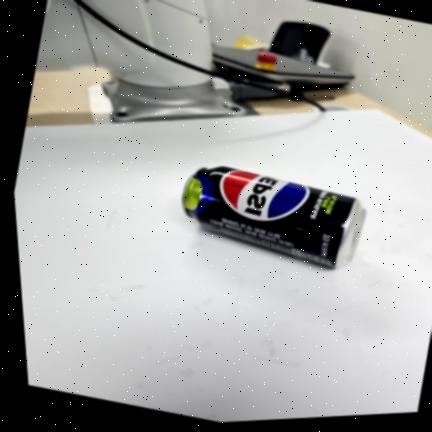can_pepsi_zero: (182, 166, 365, 267)
